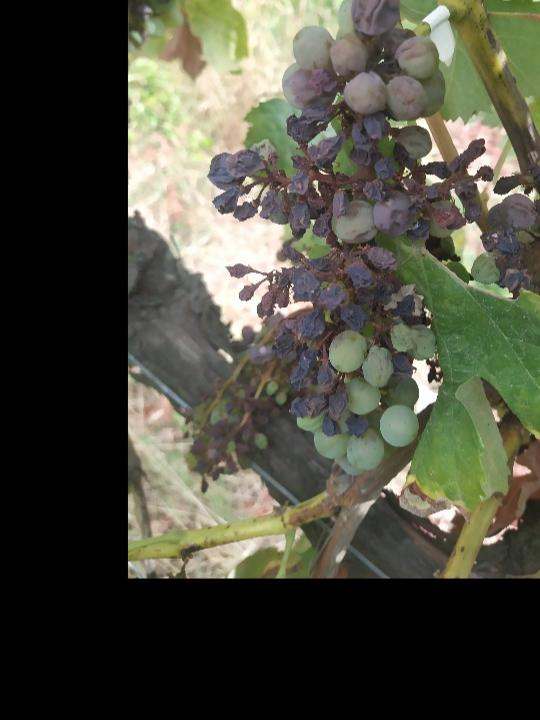grape: (205, 0, 450, 482), (478, 103, 540, 500)
